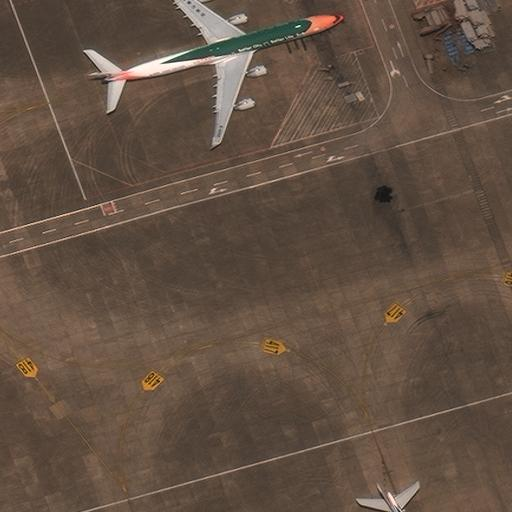Large Civil Transport: (104, 0, 346, 144)
